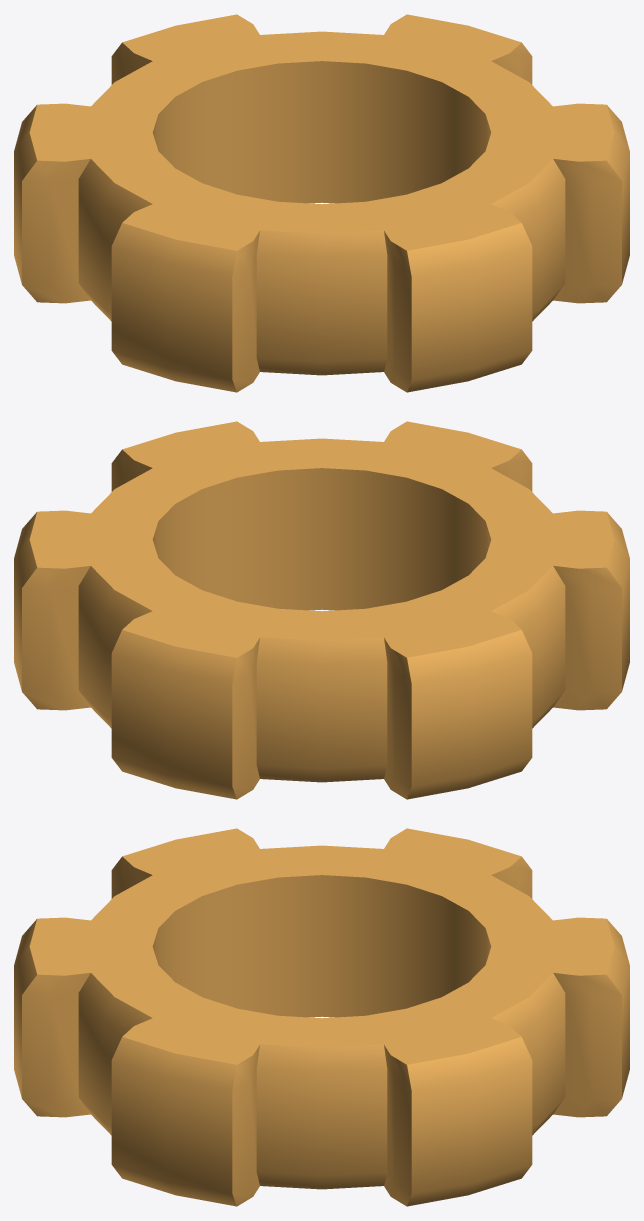
The model's file is Gear_6P_01.fbx.
The picture shows the model from 3 angles, top to bottom: view 1: azimuth 30°, elevation 25°; view 2: azimuth 150°, elevation 25°; view 3: azimuth 270°, elevation 25°; orthographic projection.
Visible parts, largest first — view 1: Gear_6P_01; view 2: Gear_6P_01; view 3: Gear_6P_01.
Part boxes in pixels (<box>): Gear_6P_01: <box>14,14,629,392</box>; Gear_6P_01: <box>14,421,629,799</box>; Gear_6P_01: <box>14,828,629,1206</box>.
Bounding box in the file's own units: 377 × 100 × 394.
